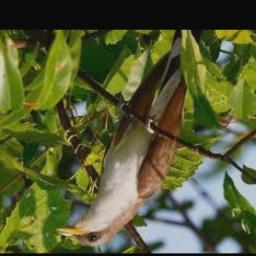Cuckoo: (58, 30, 196, 249)
